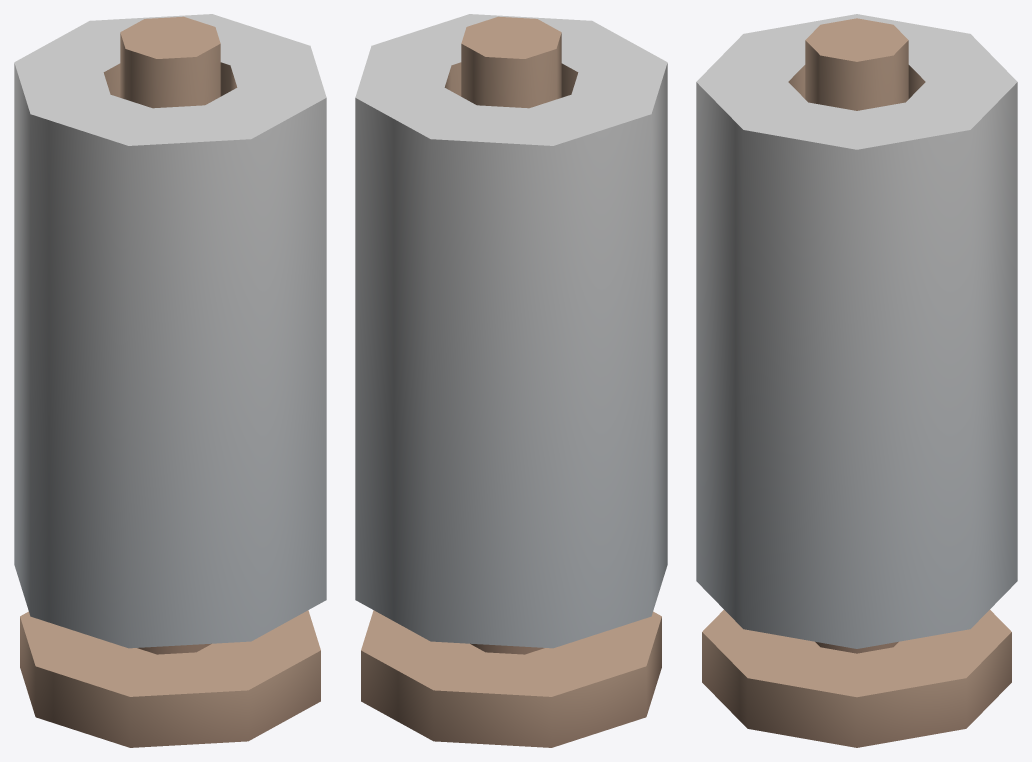
Rendered from kitchen-paper-stack.glb.
3 renders of one model, left to right at view 1: azimuth 30°, elevation 25°; view 2: azimuth 150°, elevation 25°; view 3: azimuth 270°, elevation 25°, orthographic.
Visible parts, largest first — view 1: kitchen-paper-stack; view 2: kitchen-paper-stack; view 3: kitchen-paper-stack.
Boxes of the visible parts, <box> form: kitchen-paper-stack: <box>14,14,326,747</box>; kitchen-paper-stack: <box>355,14,667,747</box>; kitchen-paper-stack: <box>696,14,1017,747</box>.
Size of the model in its own units: 0.1437 by 0.3168 by 0.1437.
